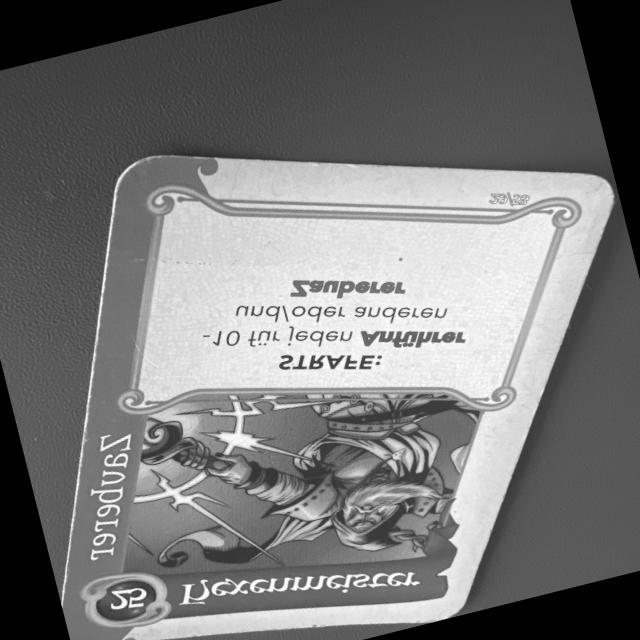Warlock Lord: (62, 153, 616, 640)
